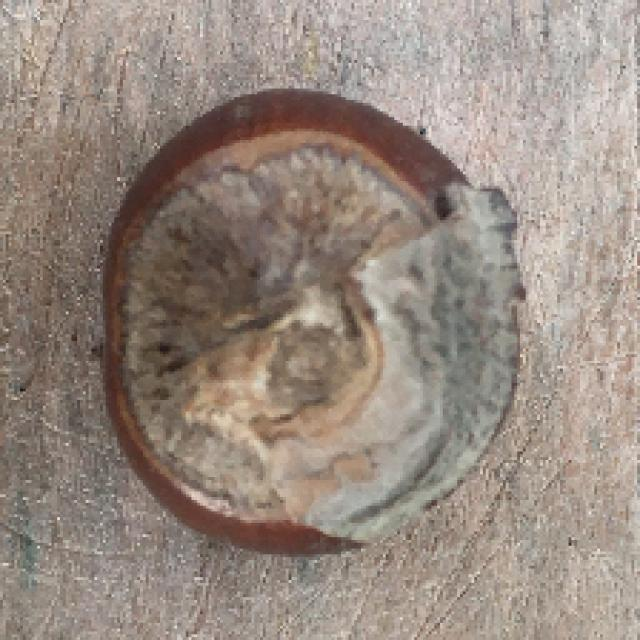DamagedHazelnut: (99, 87, 524, 558)
